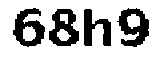6: (10, 4, 45, 50)
8: (44, 5, 79, 50)
9: (115, 7, 153, 50)
h: (78, 5, 114, 53)
